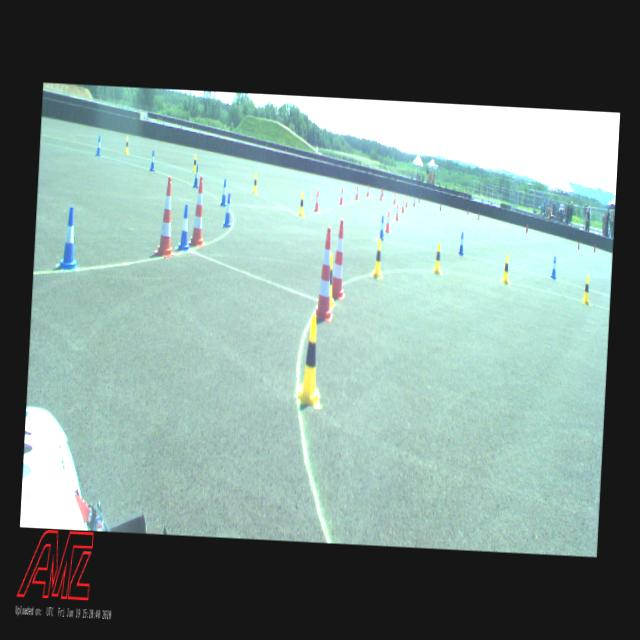blue_cone: (58, 206, 80, 270), (176, 204, 192, 252), (223, 192, 233, 228), (220, 180, 228, 207), (378, 215, 386, 240), (458, 232, 465, 256), (193, 164, 200, 188), (550, 256, 557, 279), (96, 136, 103, 156), (150, 150, 156, 171)
large_orange_cone: (314, 226, 338, 322), (154, 177, 178, 258), (331, 219, 349, 301), (188, 177, 208, 247)
orange_cone: (384, 210, 392, 233), (314, 190, 320, 212), (339, 188, 344, 205), (395, 204, 399, 222), (401, 198, 405, 214), (355, 187, 359, 200), (379, 188, 383, 200), (393, 192, 397, 204), (366, 185, 369, 198), (405, 196, 408, 208)
unknown_cone: (413, 196, 416, 208), (593, 242, 596, 254), (578, 240, 580, 250), (418, 194, 420, 203), (439, 202, 441, 211), (478, 211, 480, 220)
yellow_cone: (296, 313, 324, 405), (328, 252, 338, 309), (372, 238, 385, 280), (432, 242, 443, 274), (582, 275, 592, 304), (502, 253, 511, 284), (298, 192, 305, 218), (252, 173, 258, 195), (125, 136, 130, 154), (192, 154, 196, 172)
